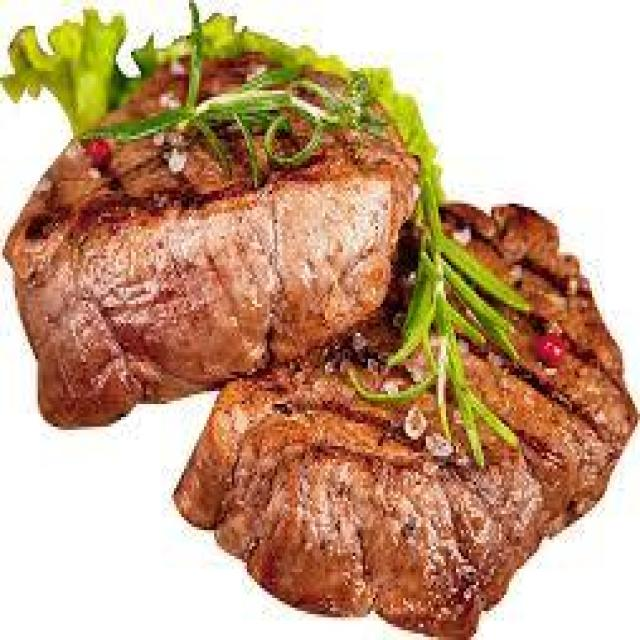organic: (3, 10, 635, 640)
